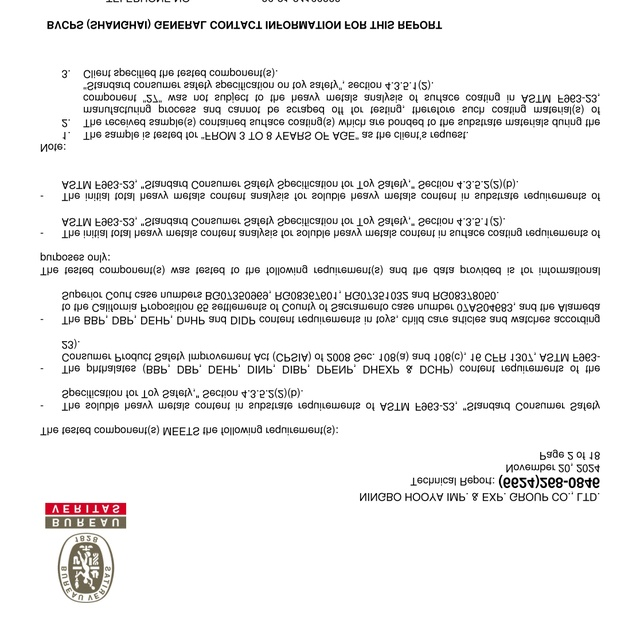bureau_veritas: (39, 498, 128, 606)
